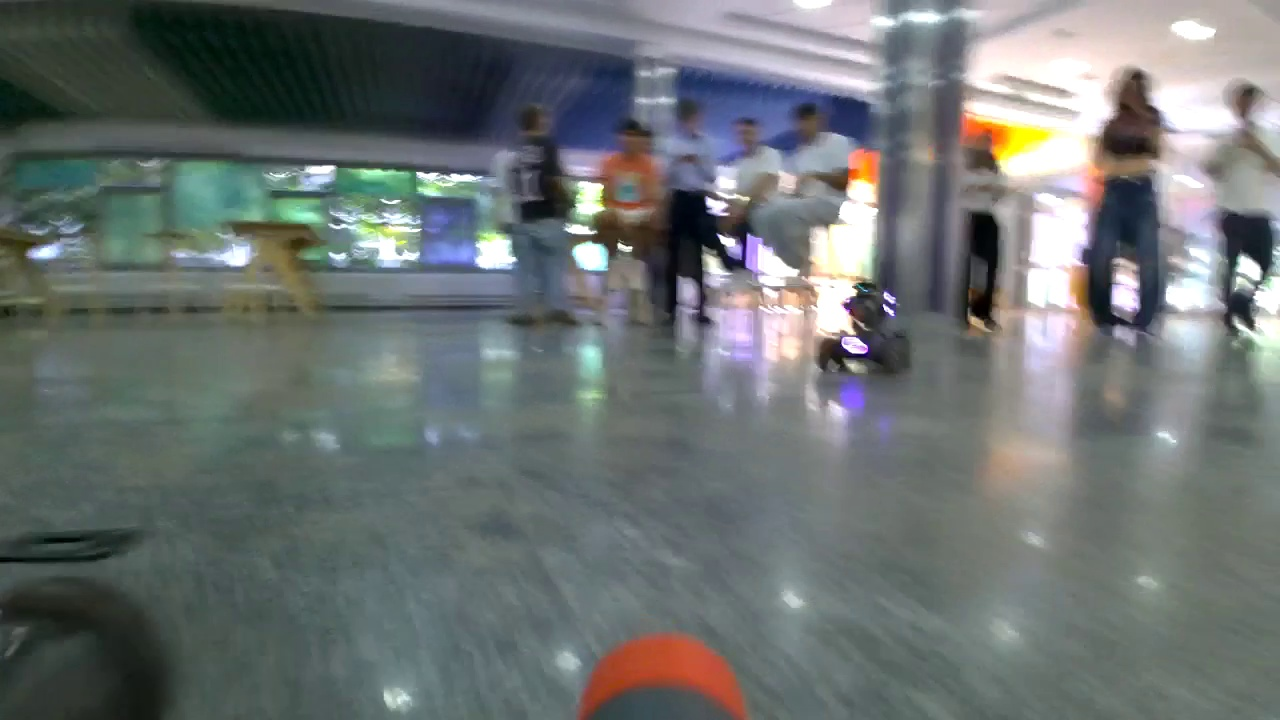robot: (816, 282, 910, 374)
